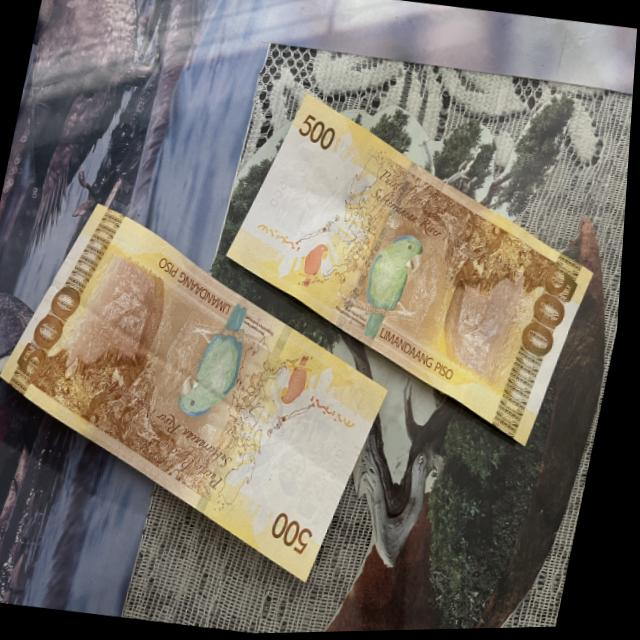500_big_parrot: (183, 294, 263, 422), (356, 224, 440, 341)
500_parrot_watermark: (283, 351, 318, 415), (299, 238, 336, 289)
value_watermark: (331, 444, 357, 484), (269, 179, 293, 211)
watermark: (268, 392, 375, 529), (265, 140, 353, 244)
